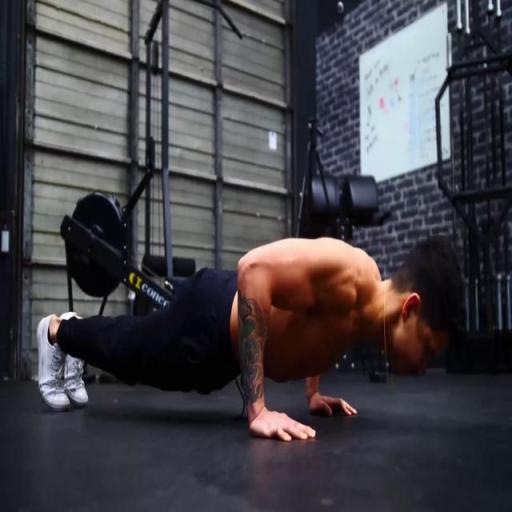Normal_BrenchPress: (39, 235, 467, 443)
